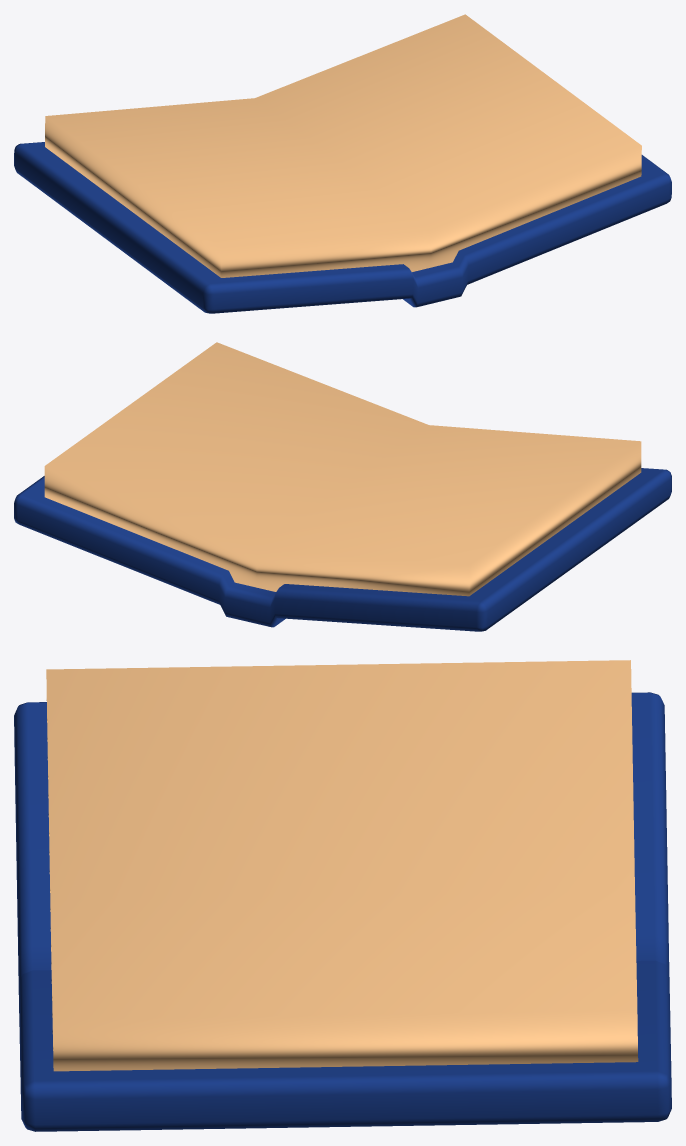
File: BlackMageGoblin_Book_Test.fbx
3 views of the same model, one above another, from view 1: azimuth 30°, elevation 25°; view 2: azimuth 150°, elevation 25°; view 3: azimuth 270°, elevation 25° (orthographic). The views are drawn at different scales.
Visible parts, largest first — view 1: pCube4; view 2: pCube4; view 3: pCube4.
Boxes of the visible parts, box(x1,y1,x2,y2) form: pCube4: box(14, 14, 671, 313); pCube4: box(14, 342, 671, 631); pCube4: box(14, 660, 671, 1131).
Bounding box in the file's own units: 1.64 × 0.3572 × 1.18.
